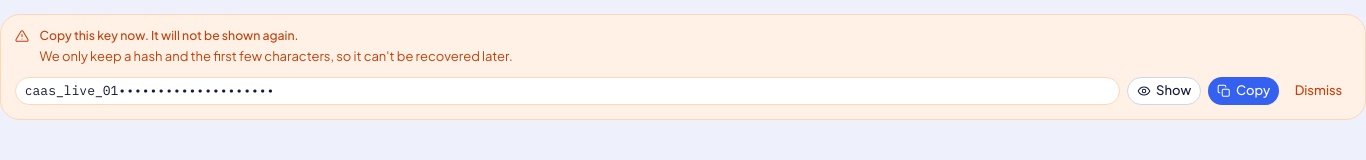
it: OneTimeSecret › masks by default, reveals on demand and dismisses
Later steps or results of the test are not shown.
Check: the field named "New API key secret" does not hold "caas_live_0123456789abcdef0123456789", box [15,76,1120,104]
Click the button with aria-label "Show API key" at (1164, 90), box [1127,76,1201,104]
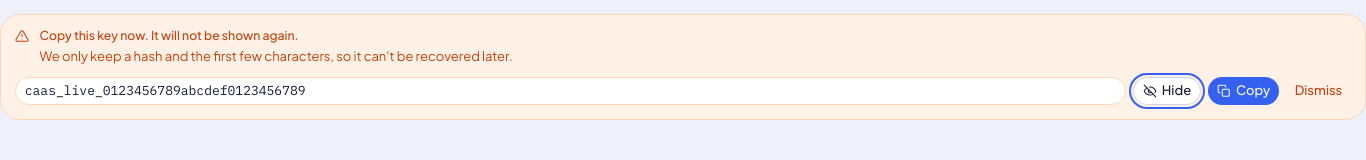
Check: the field named "New API key secret" holds "caas_live_0123456789abcdef0123456789", box [15,76,1126,104]
